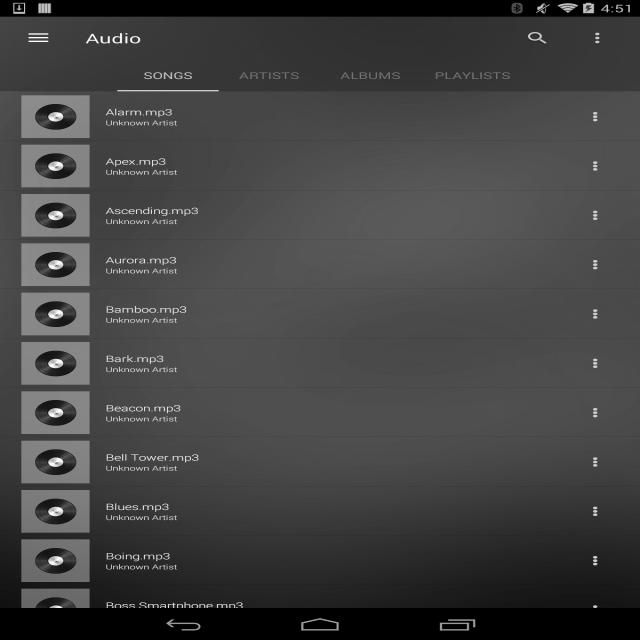ImageButton: (9, 17, 68, 59)
ImageView: (550, 95, 640, 138), (550, 194, 640, 237), (550, 243, 640, 286), (550, 342, 640, 385), (550, 391, 640, 434), (550, 490, 640, 533), (550, 539, 640, 582), (550, 145, 640, 187), (550, 293, 640, 335), (550, 441, 640, 483), (550, 589, 640, 631), (21, 95, 90, 138), (21, 194, 90, 237), (21, 243, 90, 286), (21, 342, 90, 385), (21, 391, 90, 434), (21, 490, 90, 533), (21, 539, 90, 582), (21, 145, 90, 187), (21, 293, 90, 335), (21, 441, 90, 483), (21, 589, 90, 631), (563, 19, 632, 57)
TextView: (105, 600, 244, 612), (512, 22, 563, 54), (105, 204, 198, 217), (106, 452, 199, 464), (86, 29, 142, 47), (434, 69, 510, 82), (106, 304, 186, 316), (106, 402, 180, 414), (106, 254, 176, 266), (340, 69, 401, 82), (106, 106, 172, 118), (239, 69, 299, 82), (106, 550, 170, 562), (106, 500, 169, 512), (105, 156, 166, 168), (106, 167, 178, 177), (106, 315, 178, 325), (106, 463, 178, 473), (105, 352, 163, 364), (106, 118, 178, 127), (106, 217, 178, 226), (106, 266, 178, 275), (106, 365, 178, 374), (106, 414, 178, 423), (106, 513, 178, 522), (106, 562, 178, 571), (144, 69, 192, 82)
